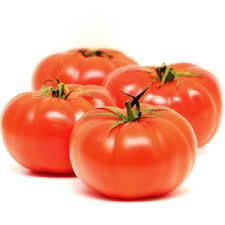tomato: (74, 103, 197, 204), (106, 61, 219, 149), (3, 90, 104, 179), (31, 49, 140, 102)
